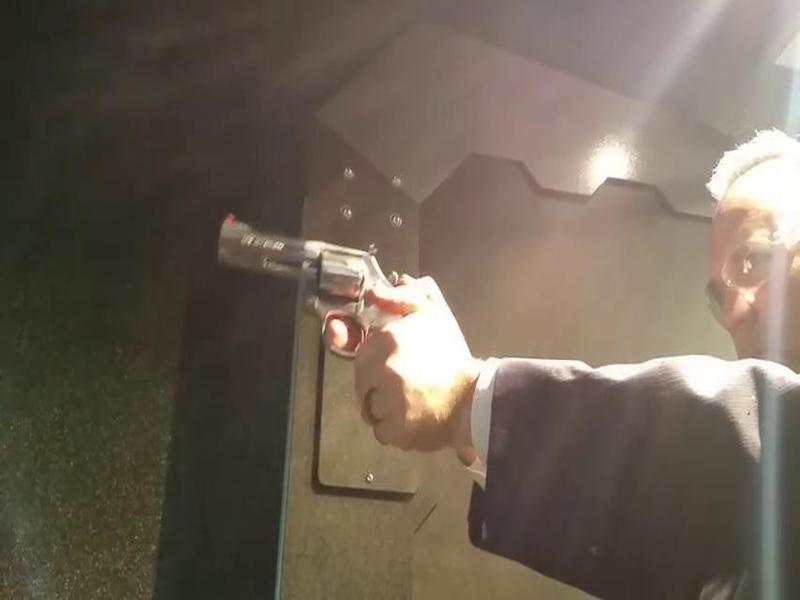Revolver: (197, 218, 427, 399)
